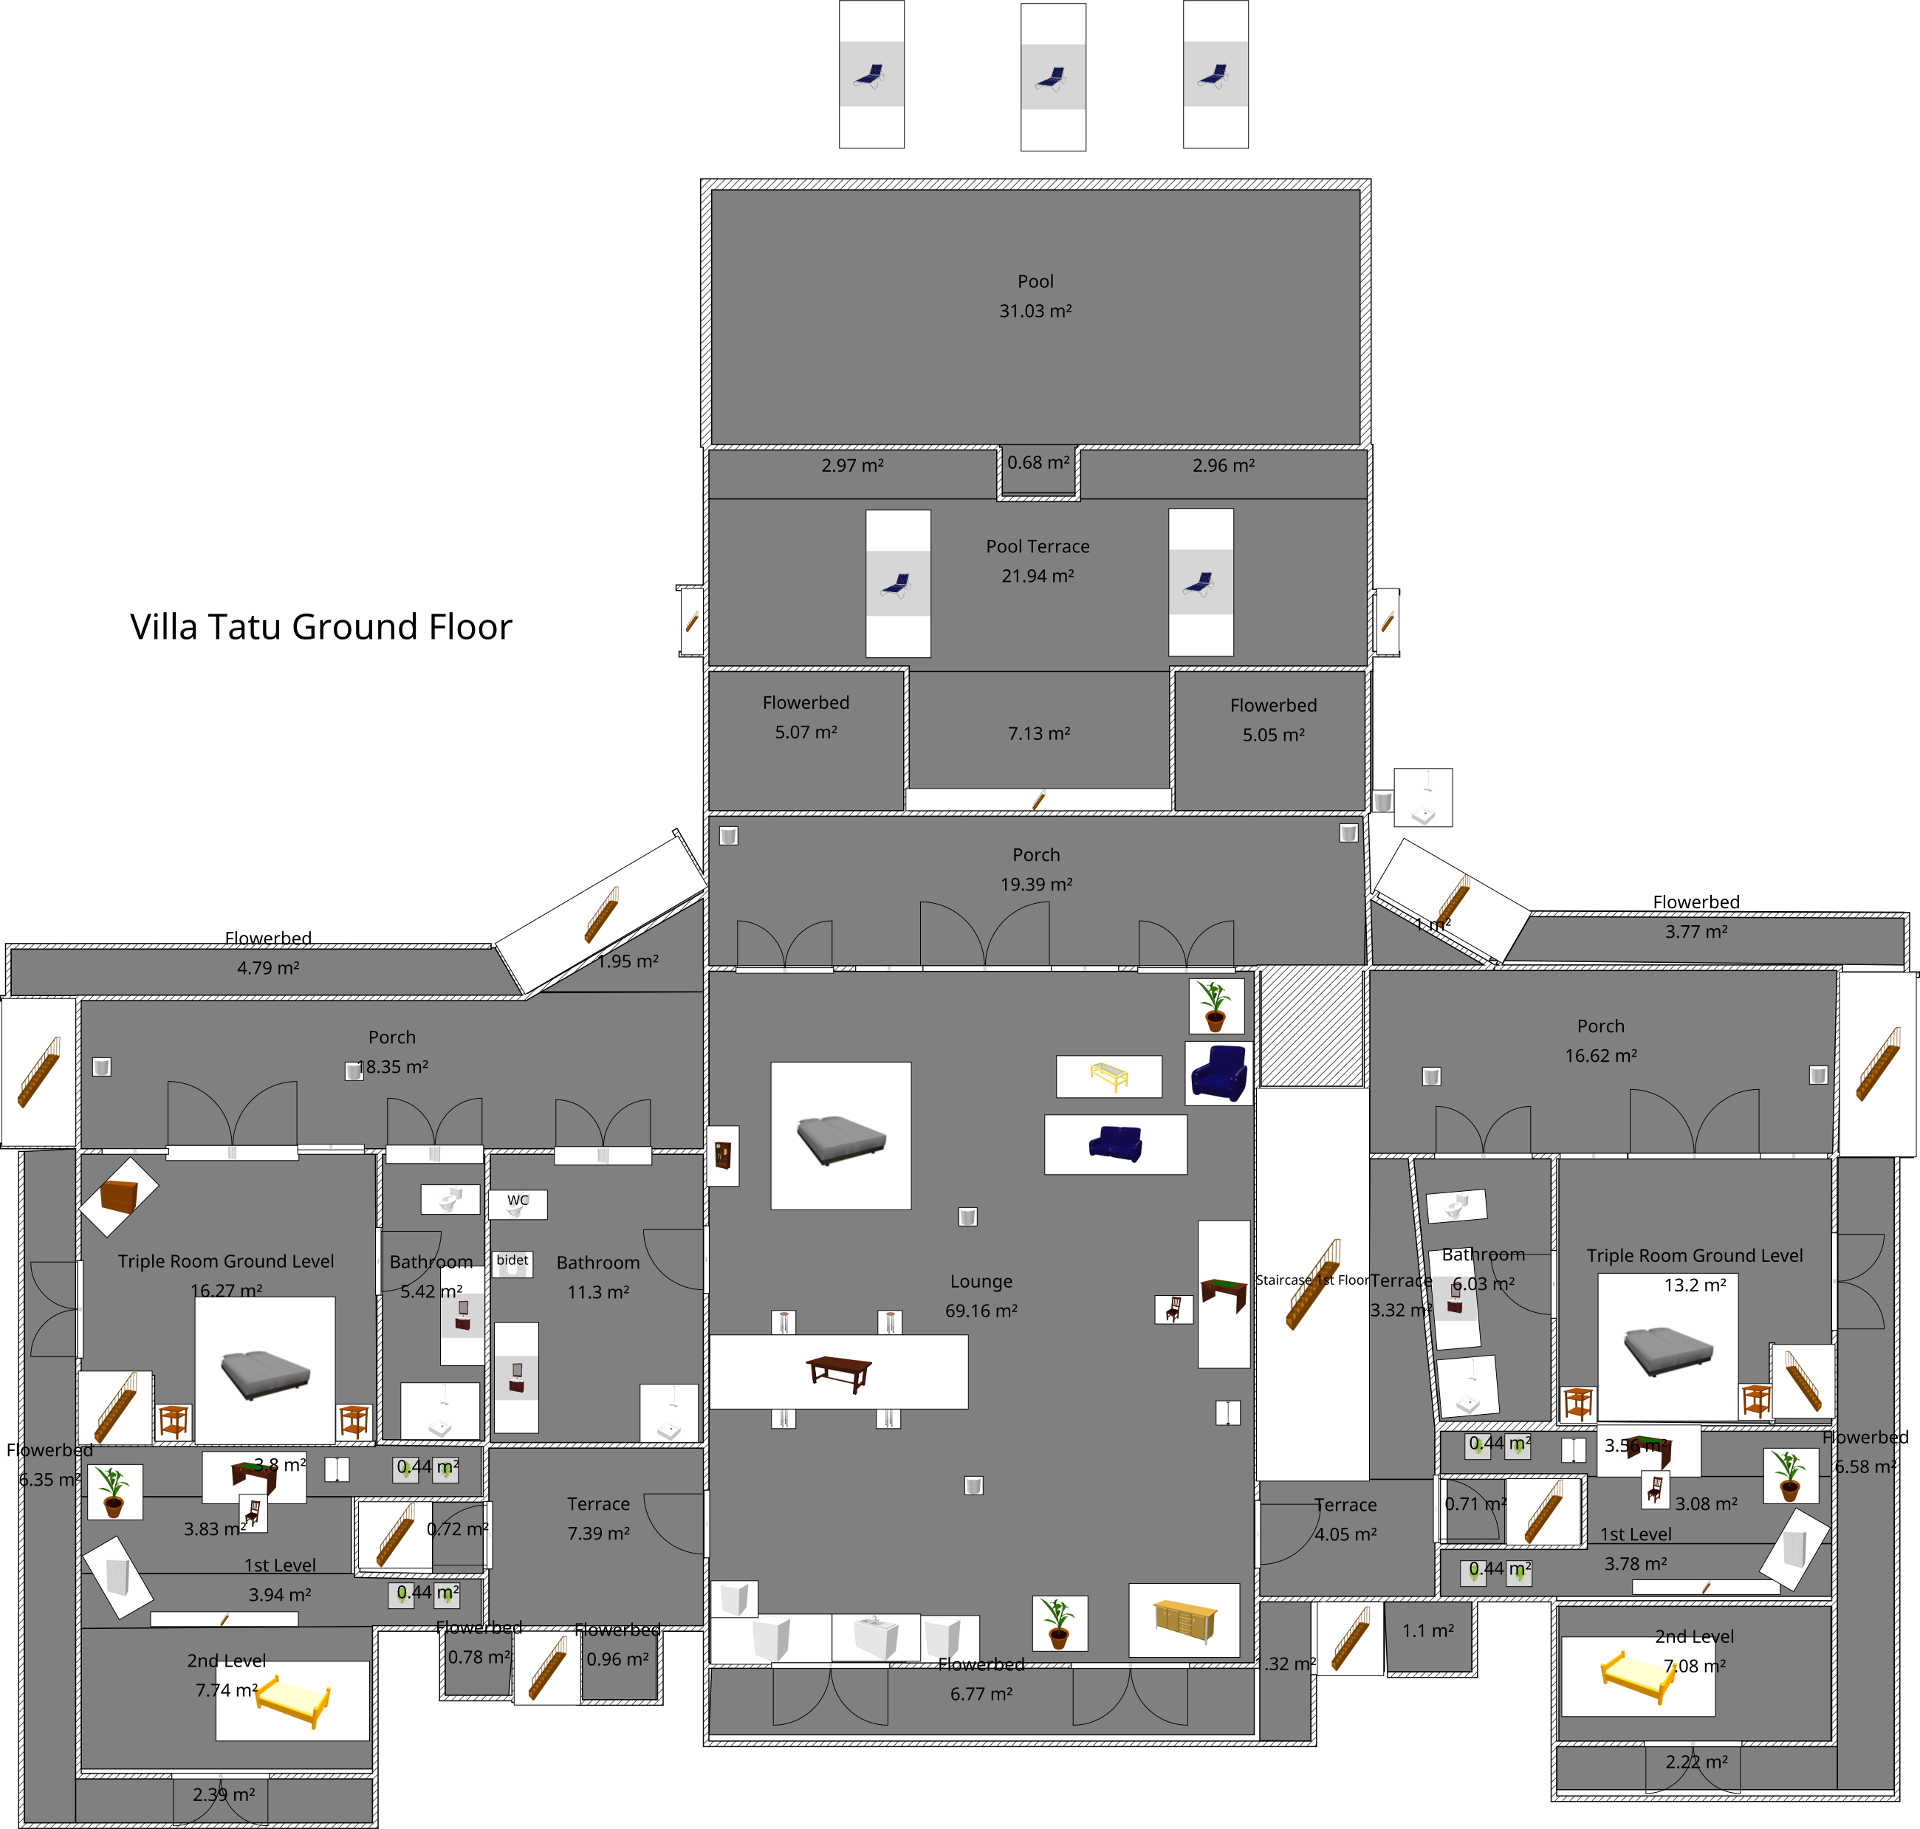door: (161, 1075, 309, 1142), (1627, 1085, 1766, 1154), (917, 897, 1054, 963), (1066, 1673, 1190, 1735), (765, 1668, 891, 1728), (1430, 1099, 1534, 1155), (554, 1087, 655, 1143), (1131, 909, 1239, 960), (382, 1088, 483, 1142), (734, 914, 830, 968), (1839, 1229, 1887, 1334), (27, 1256, 70, 1363), (386, 1226, 449, 1291), (1265, 1496, 1329, 1560), (639, 1490, 701, 1548), (639, 1222, 696, 1286)
